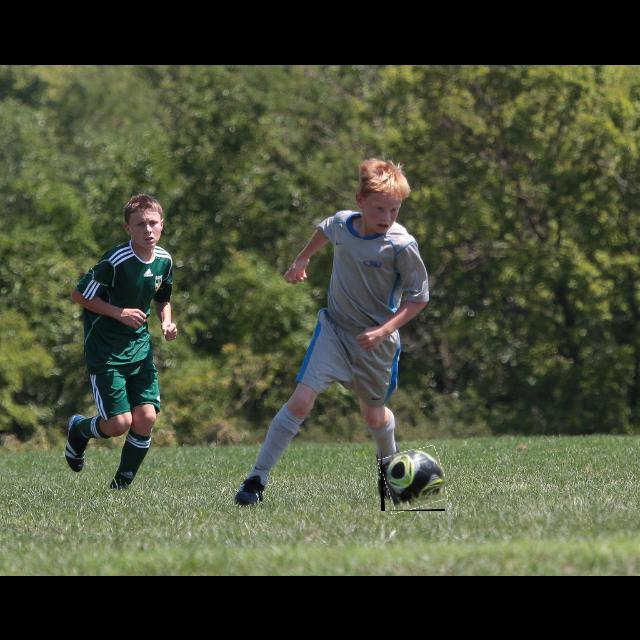Football: (381, 449, 445, 511)
